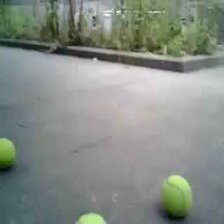tennis: (163, 174, 192, 215), (1, 138, 17, 168), (72, 211, 107, 224)
